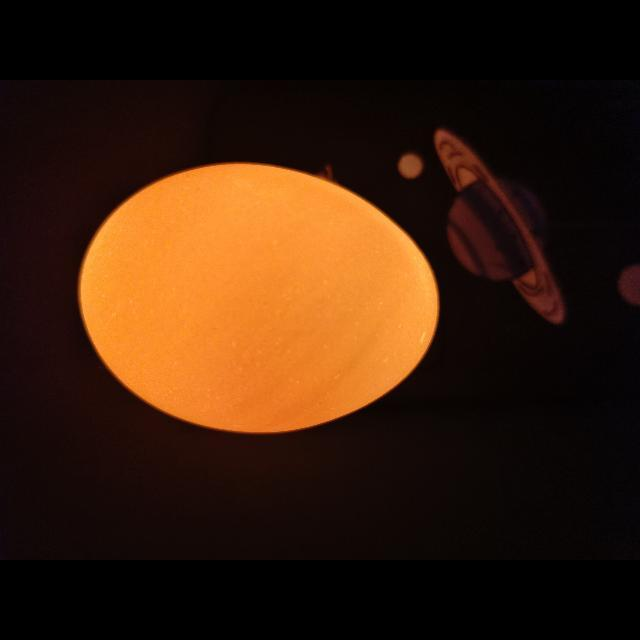AA - Premium: (79, 164, 439, 433), (239, 313, 243, 314)
